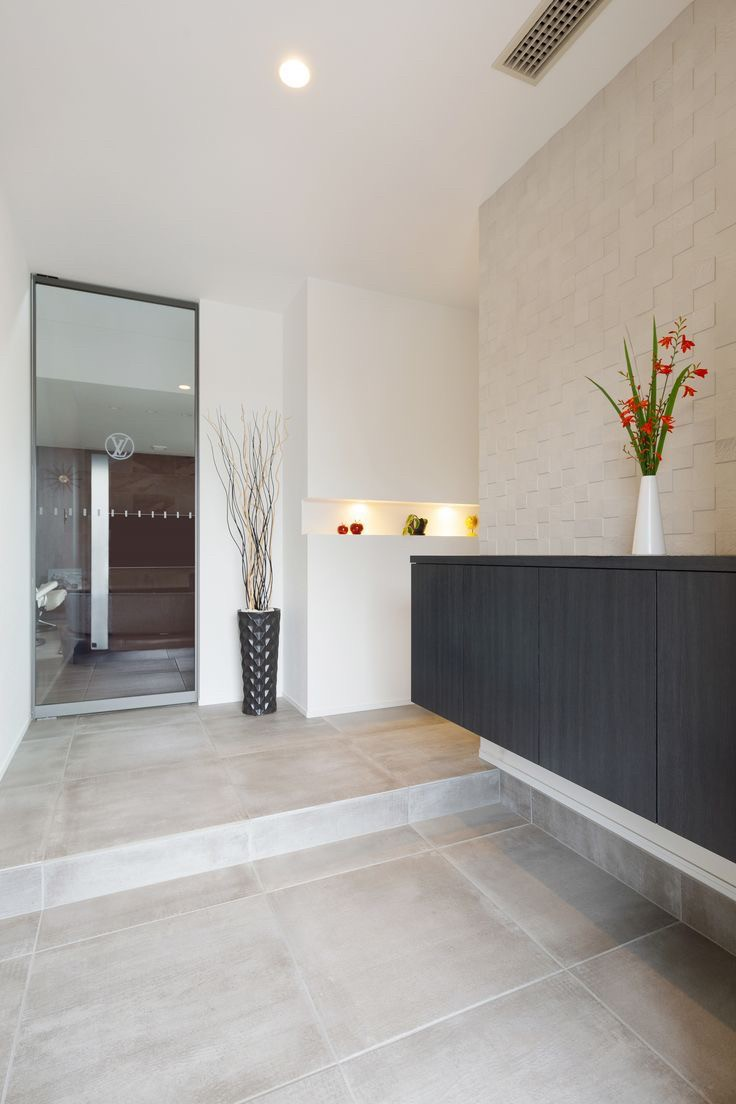floor: (0, 802, 735, 1103)
